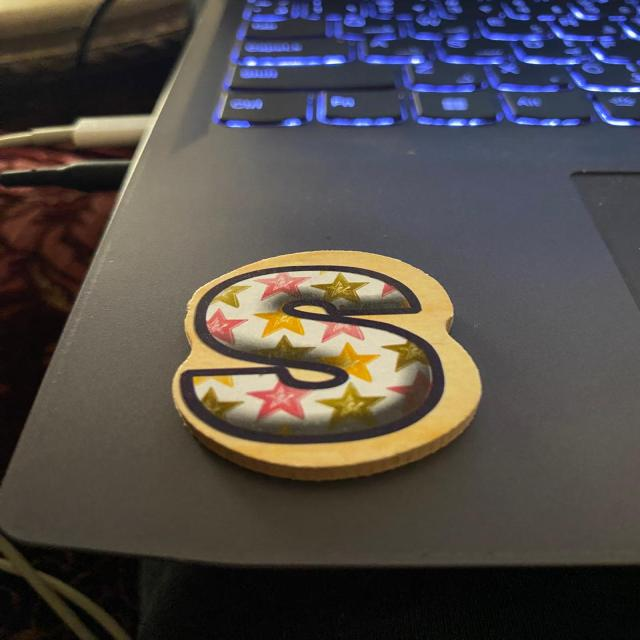S: (172, 250, 481, 480)
